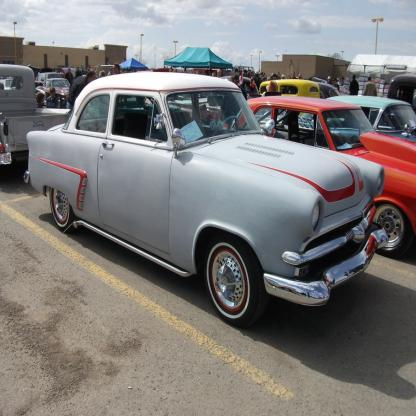Car: (25, 73, 390, 331), (224, 97, 416, 260), (326, 99, 416, 146), (36, 79, 71, 109), (35, 72, 67, 89), (55, 67, 79, 79)
